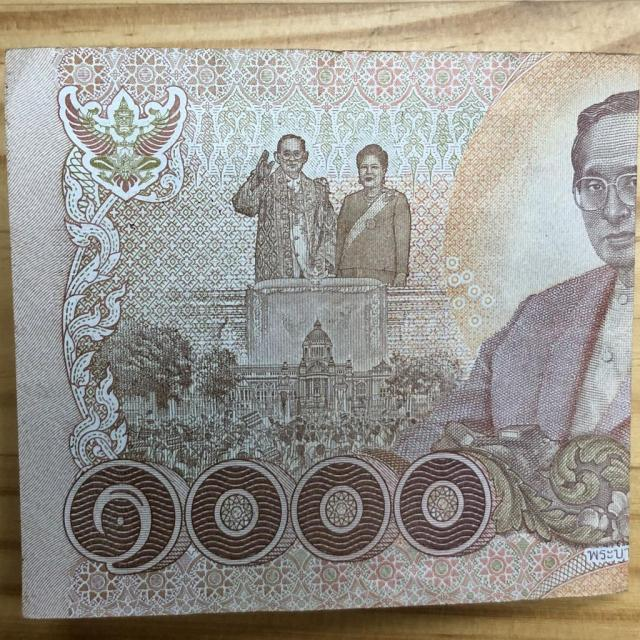THAI1000: (6, 48, 639, 618)
